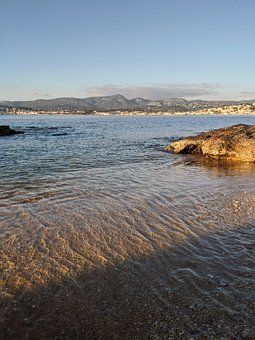beach: (3, 112, 255, 340)
mountain: (1, 93, 254, 113)
sky: (1, 4, 251, 92)
